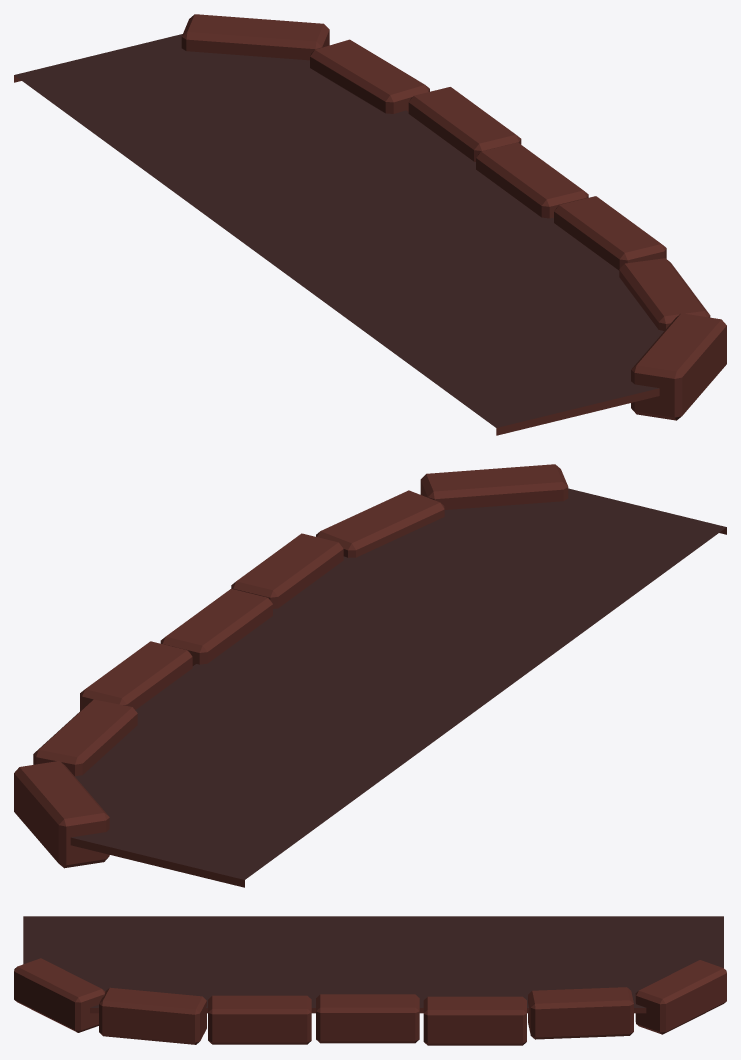
File: fireplace_floor.gltf
3 views of the same model, one above another, from view 1: azimuth 30°, elevation 25°; view 2: azimuth 150°, elevation 25°; view 3: azimuth 270°, elevation 25° (orthographic). The views are drawn at different scales.
Visible parts, largest first — view 1: brick.007; view 2: brick.007; view 3: brick.007.
Part boxes in pixels (<box>): brick.007: <box>14,14,726,435</box>; brick.007: <box>14,464,726,887</box>; brick.007: <box>14,916,726,1045</box>.
Bounding box in the file's own units: 1.29 × 0.2169 × 3.62.
